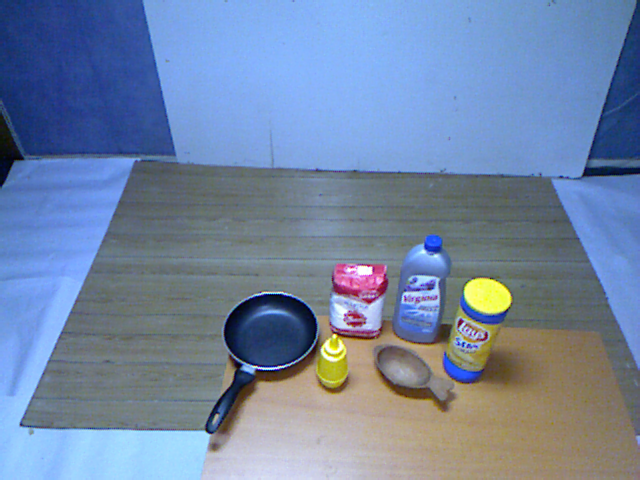cera: (387, 234, 453, 346)
harina: (325, 258, 390, 343)
mostaza: (310, 327, 356, 395)
papas: (438, 270, 516, 387)
pescado: (366, 338, 459, 411)
sarten: (197, 293, 325, 434)
